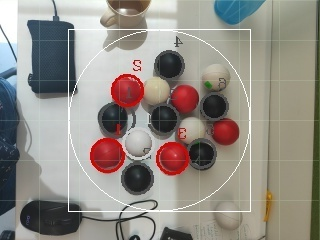Pelota blanca: (118, 213, 157, 240), (199, 63, 231, 93), (124, 127, 153, 159), (78, 219, 119, 240), (176, 117, 207, 144), (144, 75, 171, 105), (105, 0, 151, 16), (214, 211, 241, 231)
Pelota negra: (20, 199, 83, 237), (214, 0, 267, 27), (98, 101, 131, 138), (121, 163, 155, 196), (154, 49, 187, 81), (188, 137, 219, 171), (148, 105, 179, 138), (201, 91, 229, 118), (160, 227, 195, 240)
Pelota roja: (90, 137, 127, 174), (155, 141, 191, 177), (110, 73, 145, 108), (169, 83, 201, 114), (209, 117, 241, 147)
